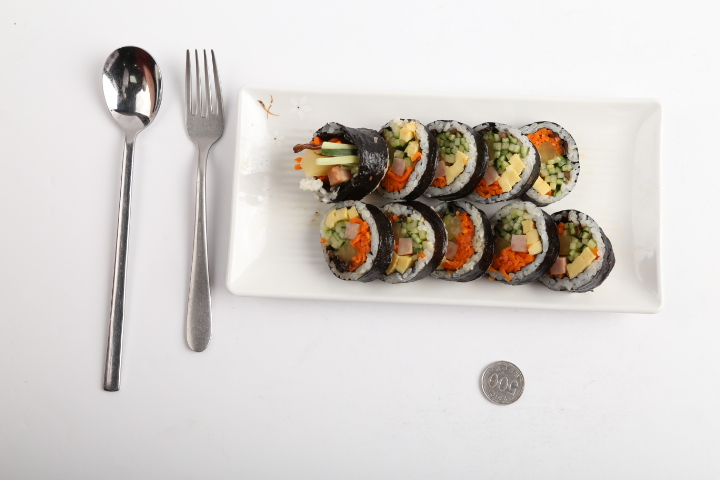dish: (227, 88, 661, 314)
ref_coin: (482, 361, 525, 405)
ref_fork: (185, 48, 224, 152)
ref_spoon: (102, 45, 163, 139)
김밥: (303, 117, 615, 292)
